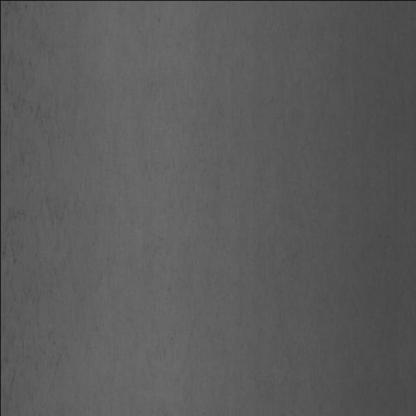silk_spot: (0, 59, 92, 369)
